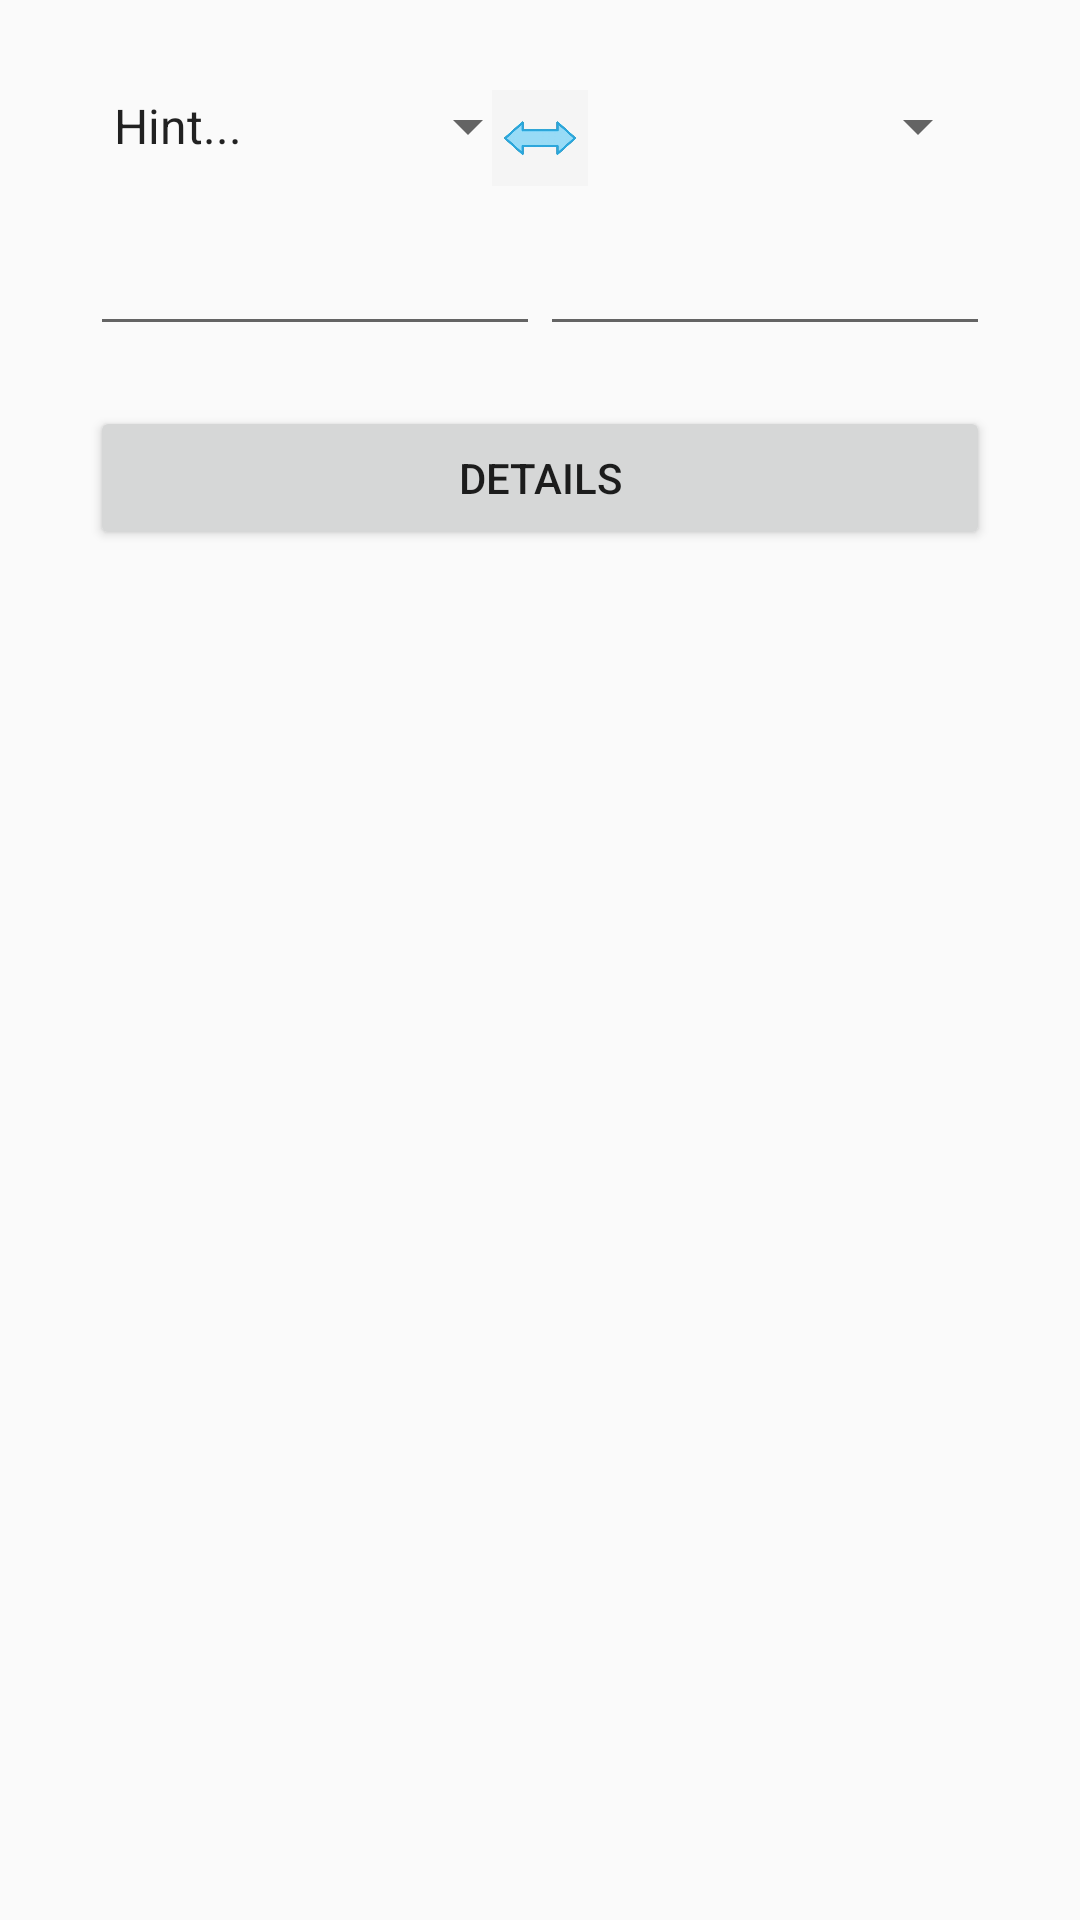

Named icons in this screenshot (1080 x 1920) and their bounding boxes, [left=x1, top=y1, right=x2, bottom=y2]:
switch: [left=504, top=121, right=576, bottom=155]
